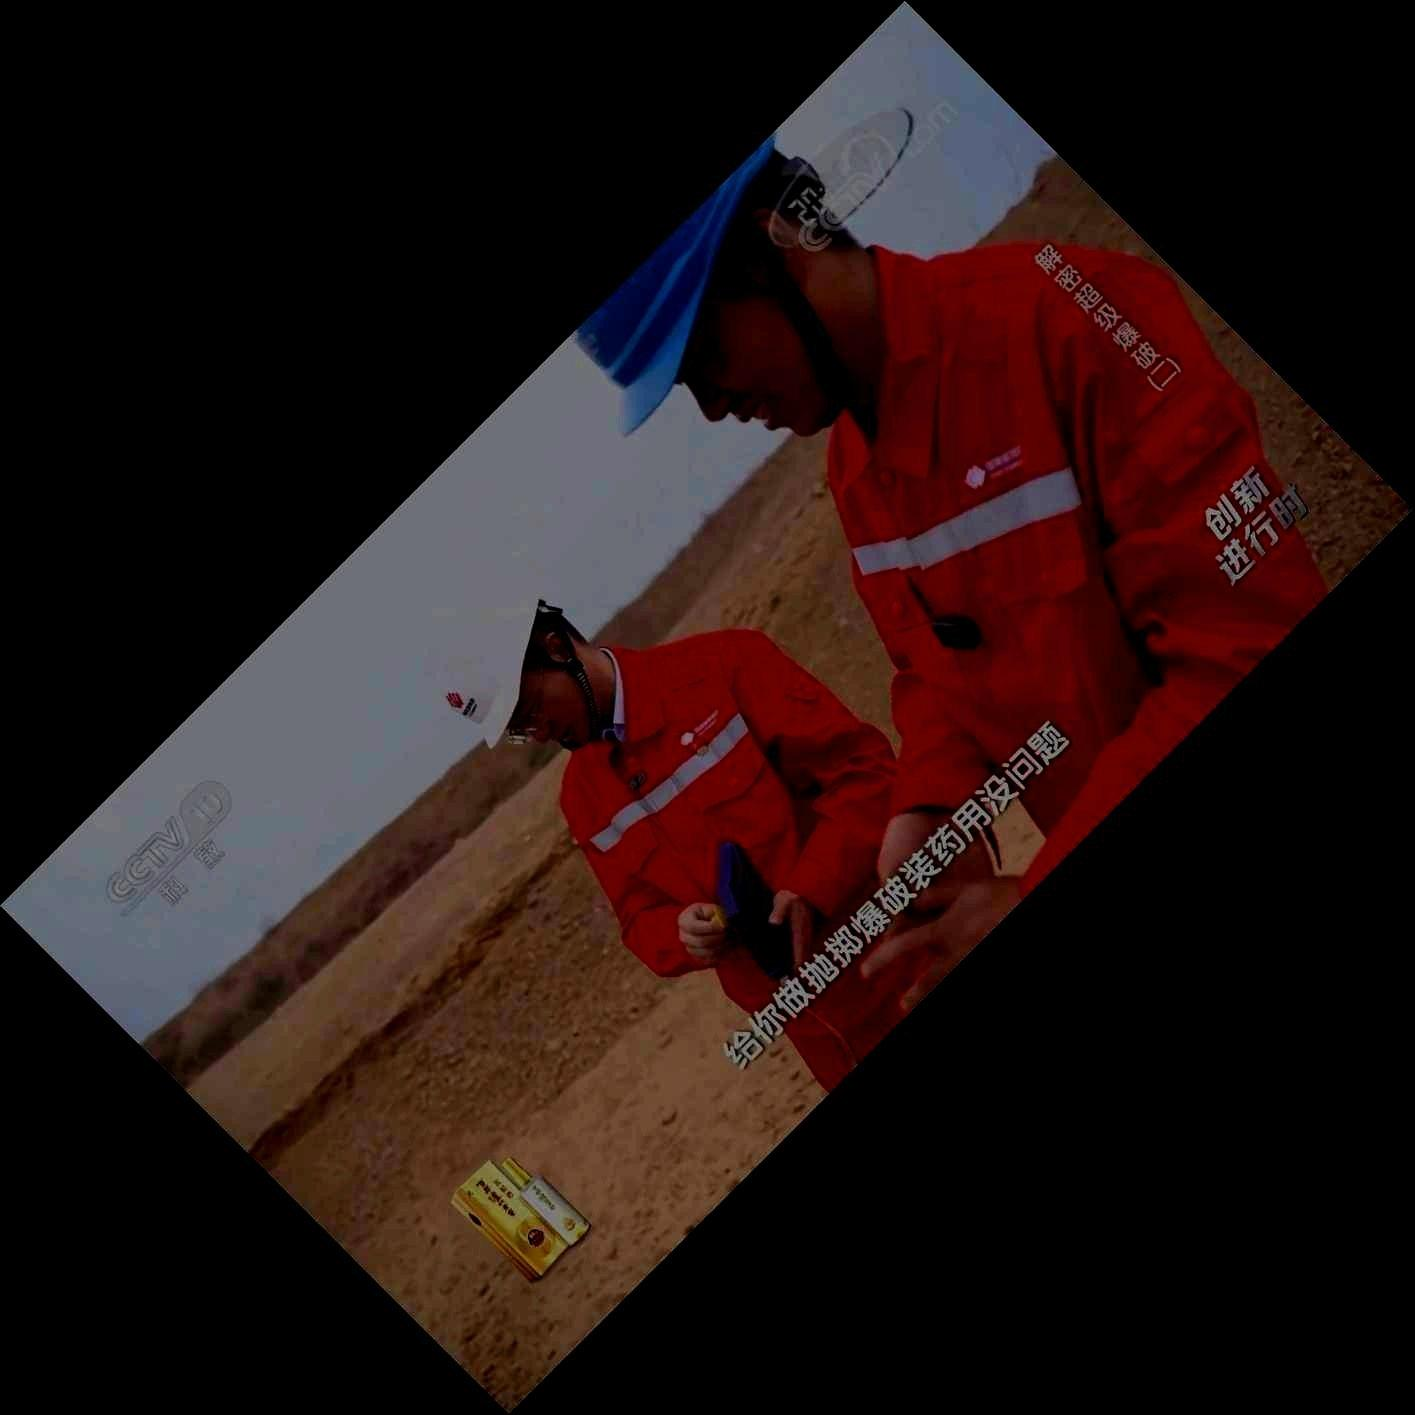helmet: (571, 128, 862, 438), (422, 592, 593, 752)
